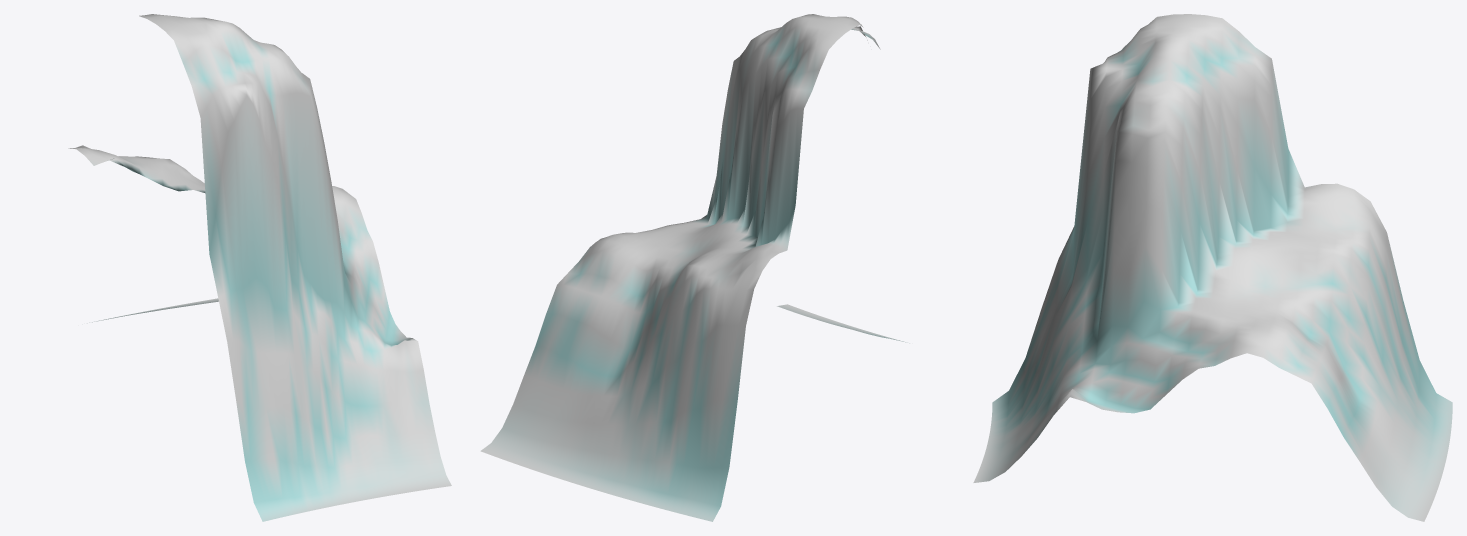
File: middle_10.glb
3 views of the same model, side by side, from view 1: azimuth 30°, elevation 25°; view 2: azimuth 150°, elevation 25°; view 3: azimuth 270°, elevation 25° (orthographic). The views are drawn at different scales.
Parts seen in each view (by area): view 1: Mountain; view 2: Mountain; view 3: Mountain.
Part boxes in pixels (x1,y1,x2,y2): Mountain: (68,14,451,521); Mountain: (480,14,909,521); Mountain: (973,14,1452,521).
Bounding box in the file's own units: 369 × 559 × 625.
